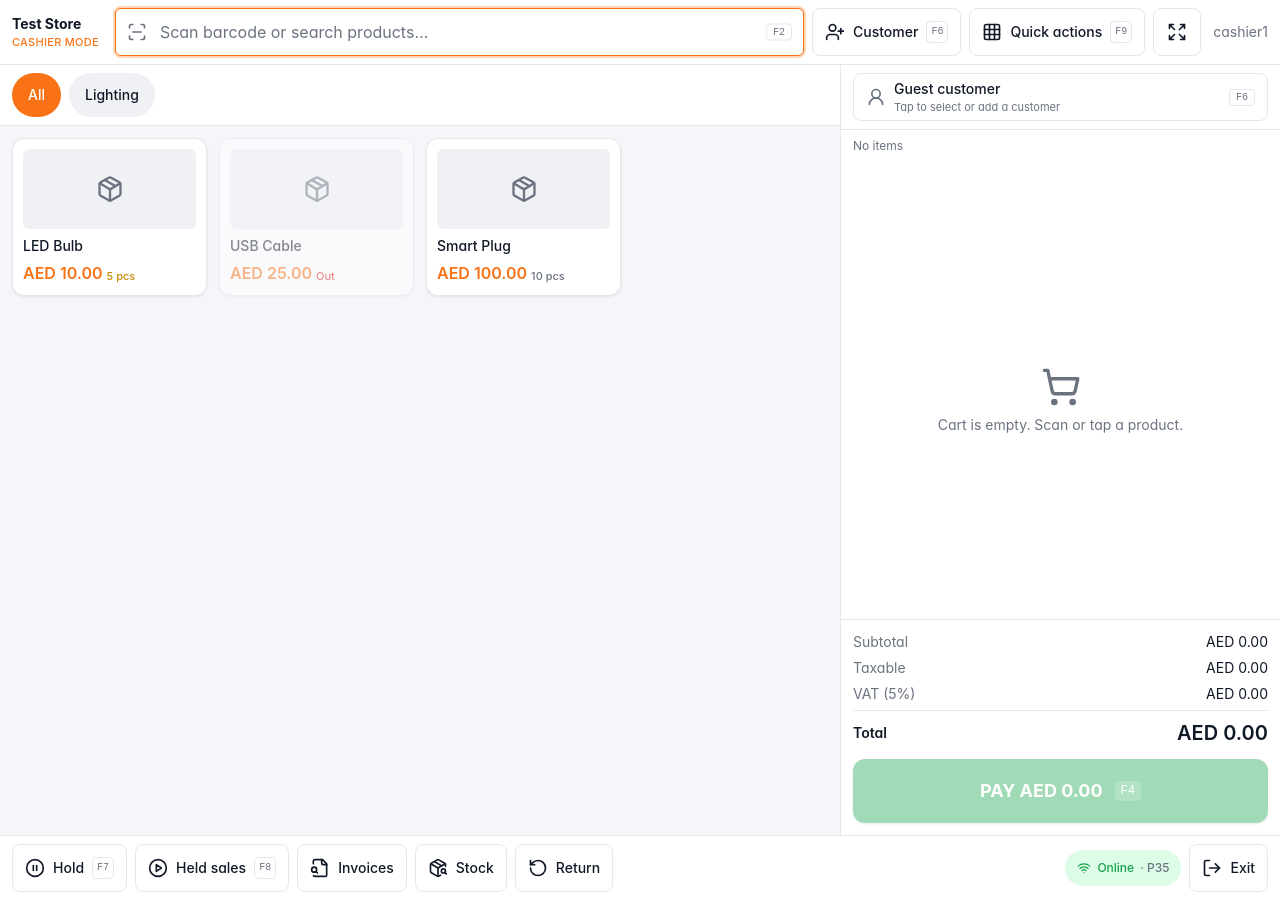
Test: Cashier Mode — payment, hold and exit › a backend rejection keeps the cart and shows the server message
Click the button with aria-label "Add LED Bulb": (110, 217) x1=12 y1=138 x2=207 y2=296
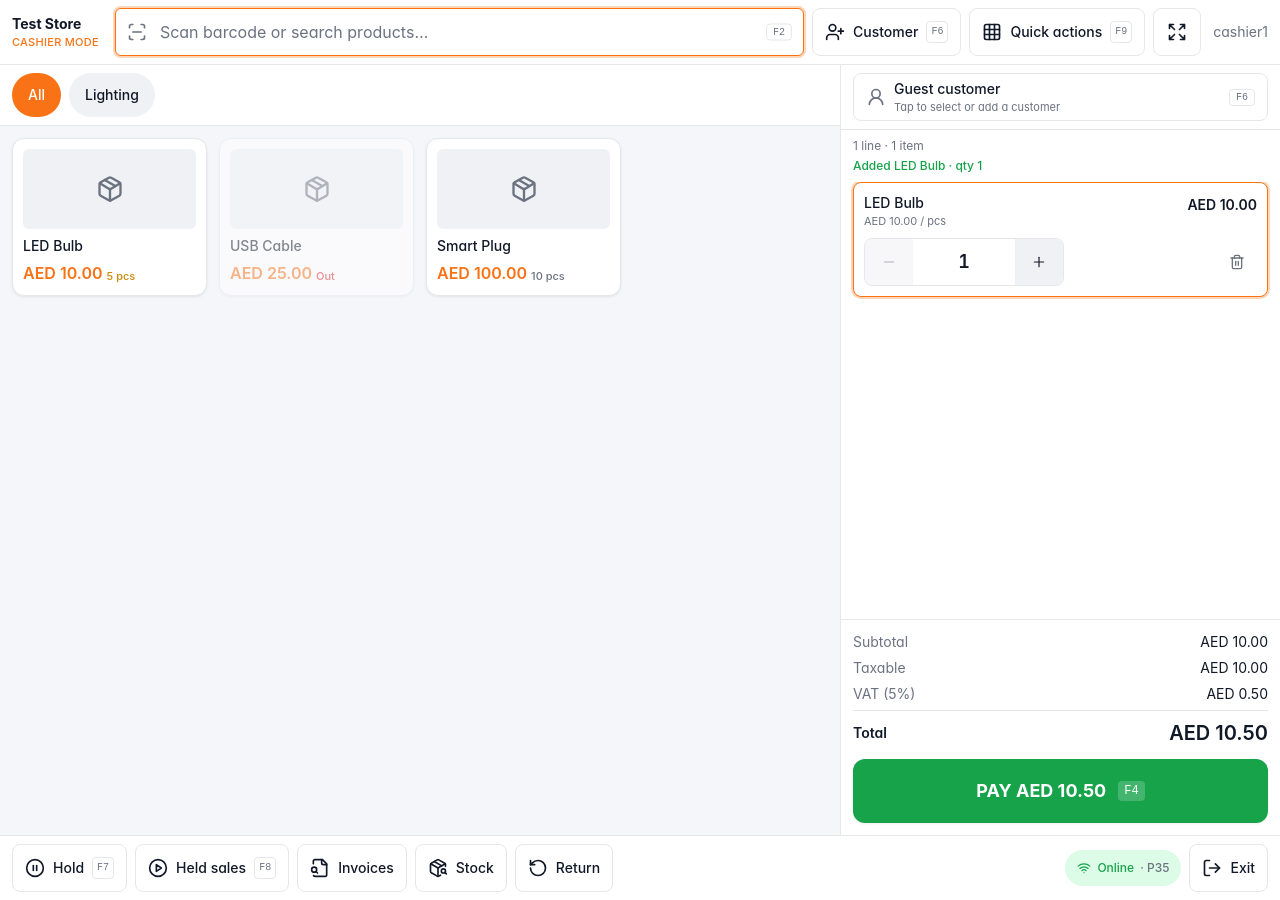
Click the button "PAY AED 10.50 F4": (1060, 791) x1=853 y1=759 x2=1268 y2=823
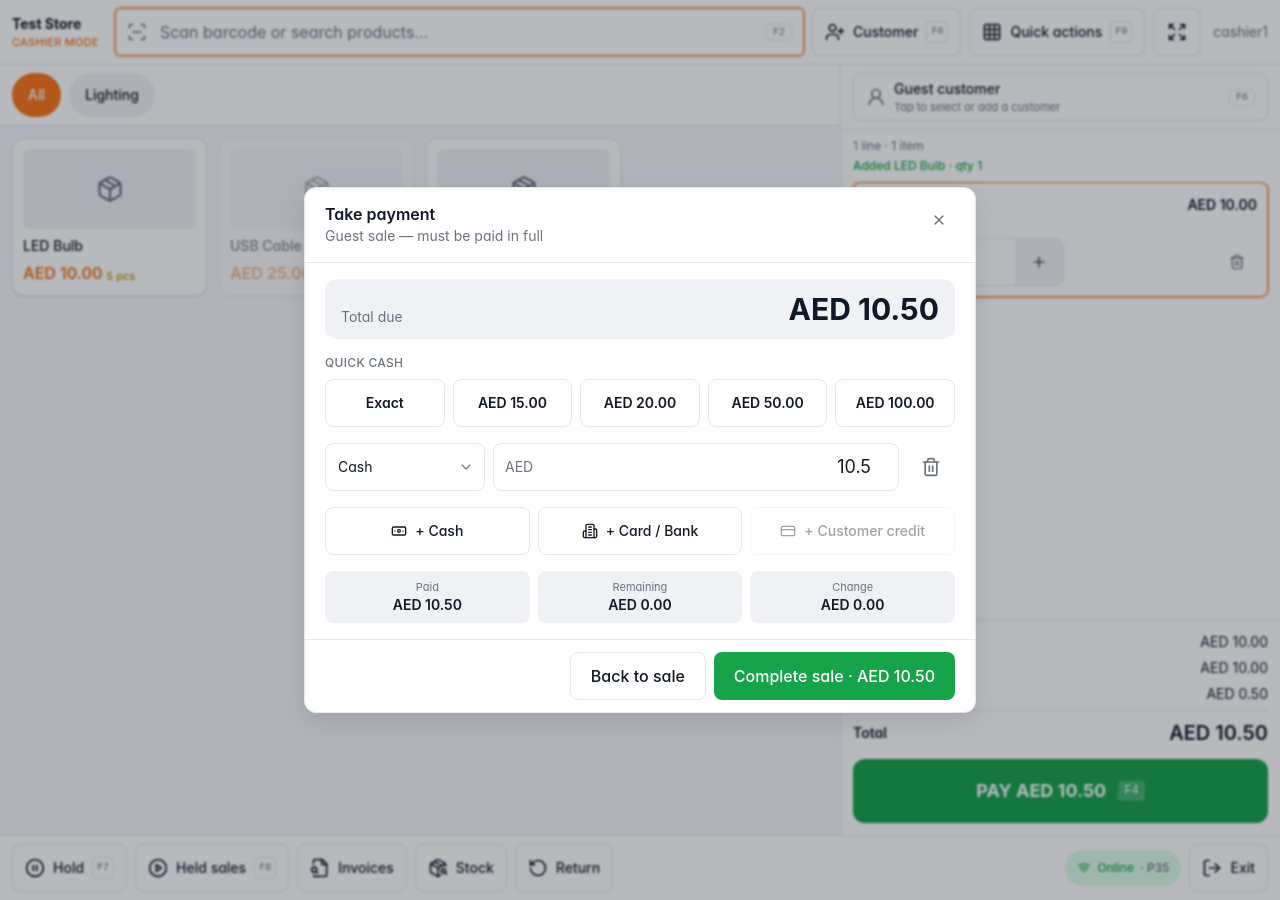
Click the button "Complete sale · AED 10.50": (834, 676) x1=714 y1=652 x2=955 y2=700
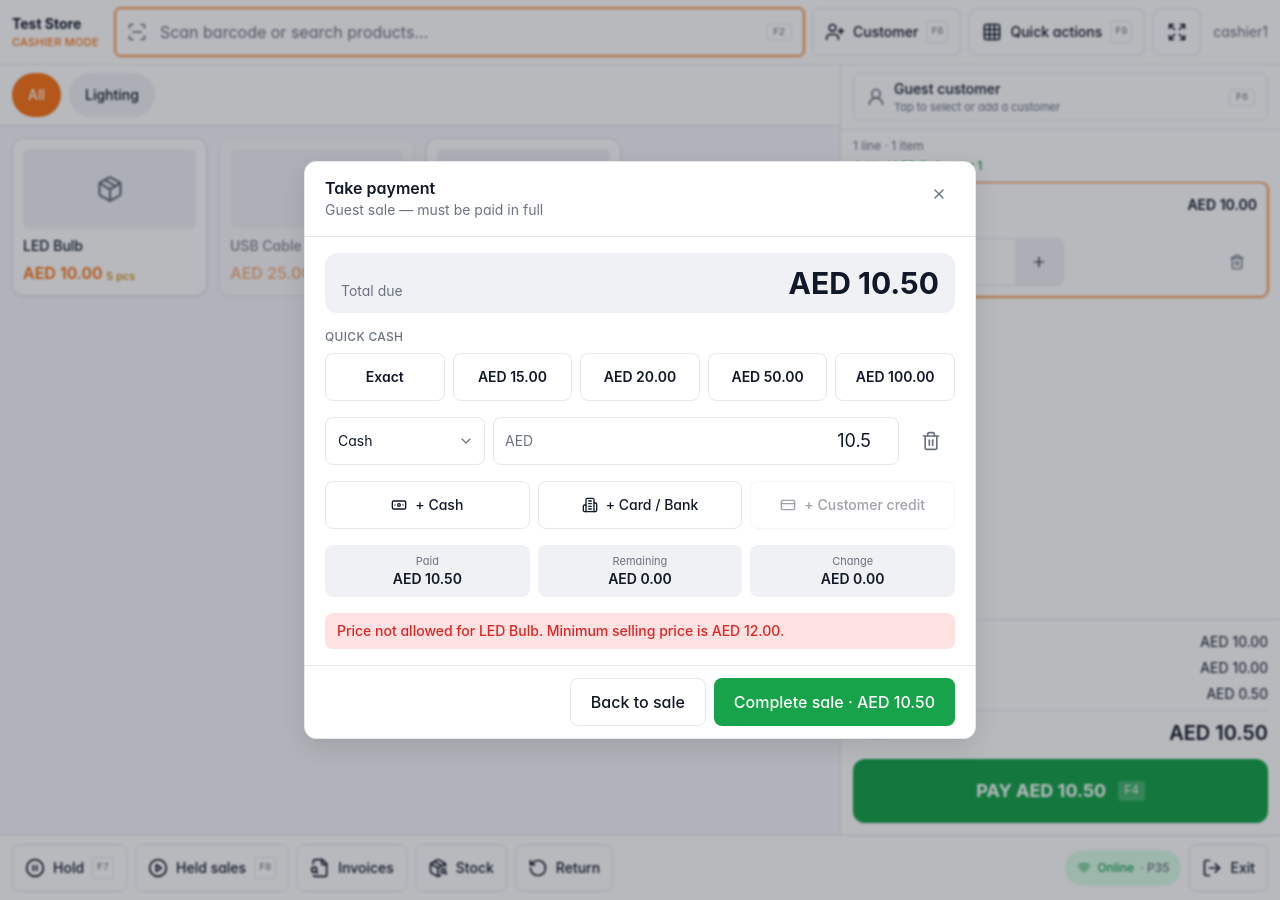
Result: the text "Price not allowed for LED Bulb. Minimum selling price is AED 12.00." is shown at x1=325 y1=613 x2=955 y2=649
